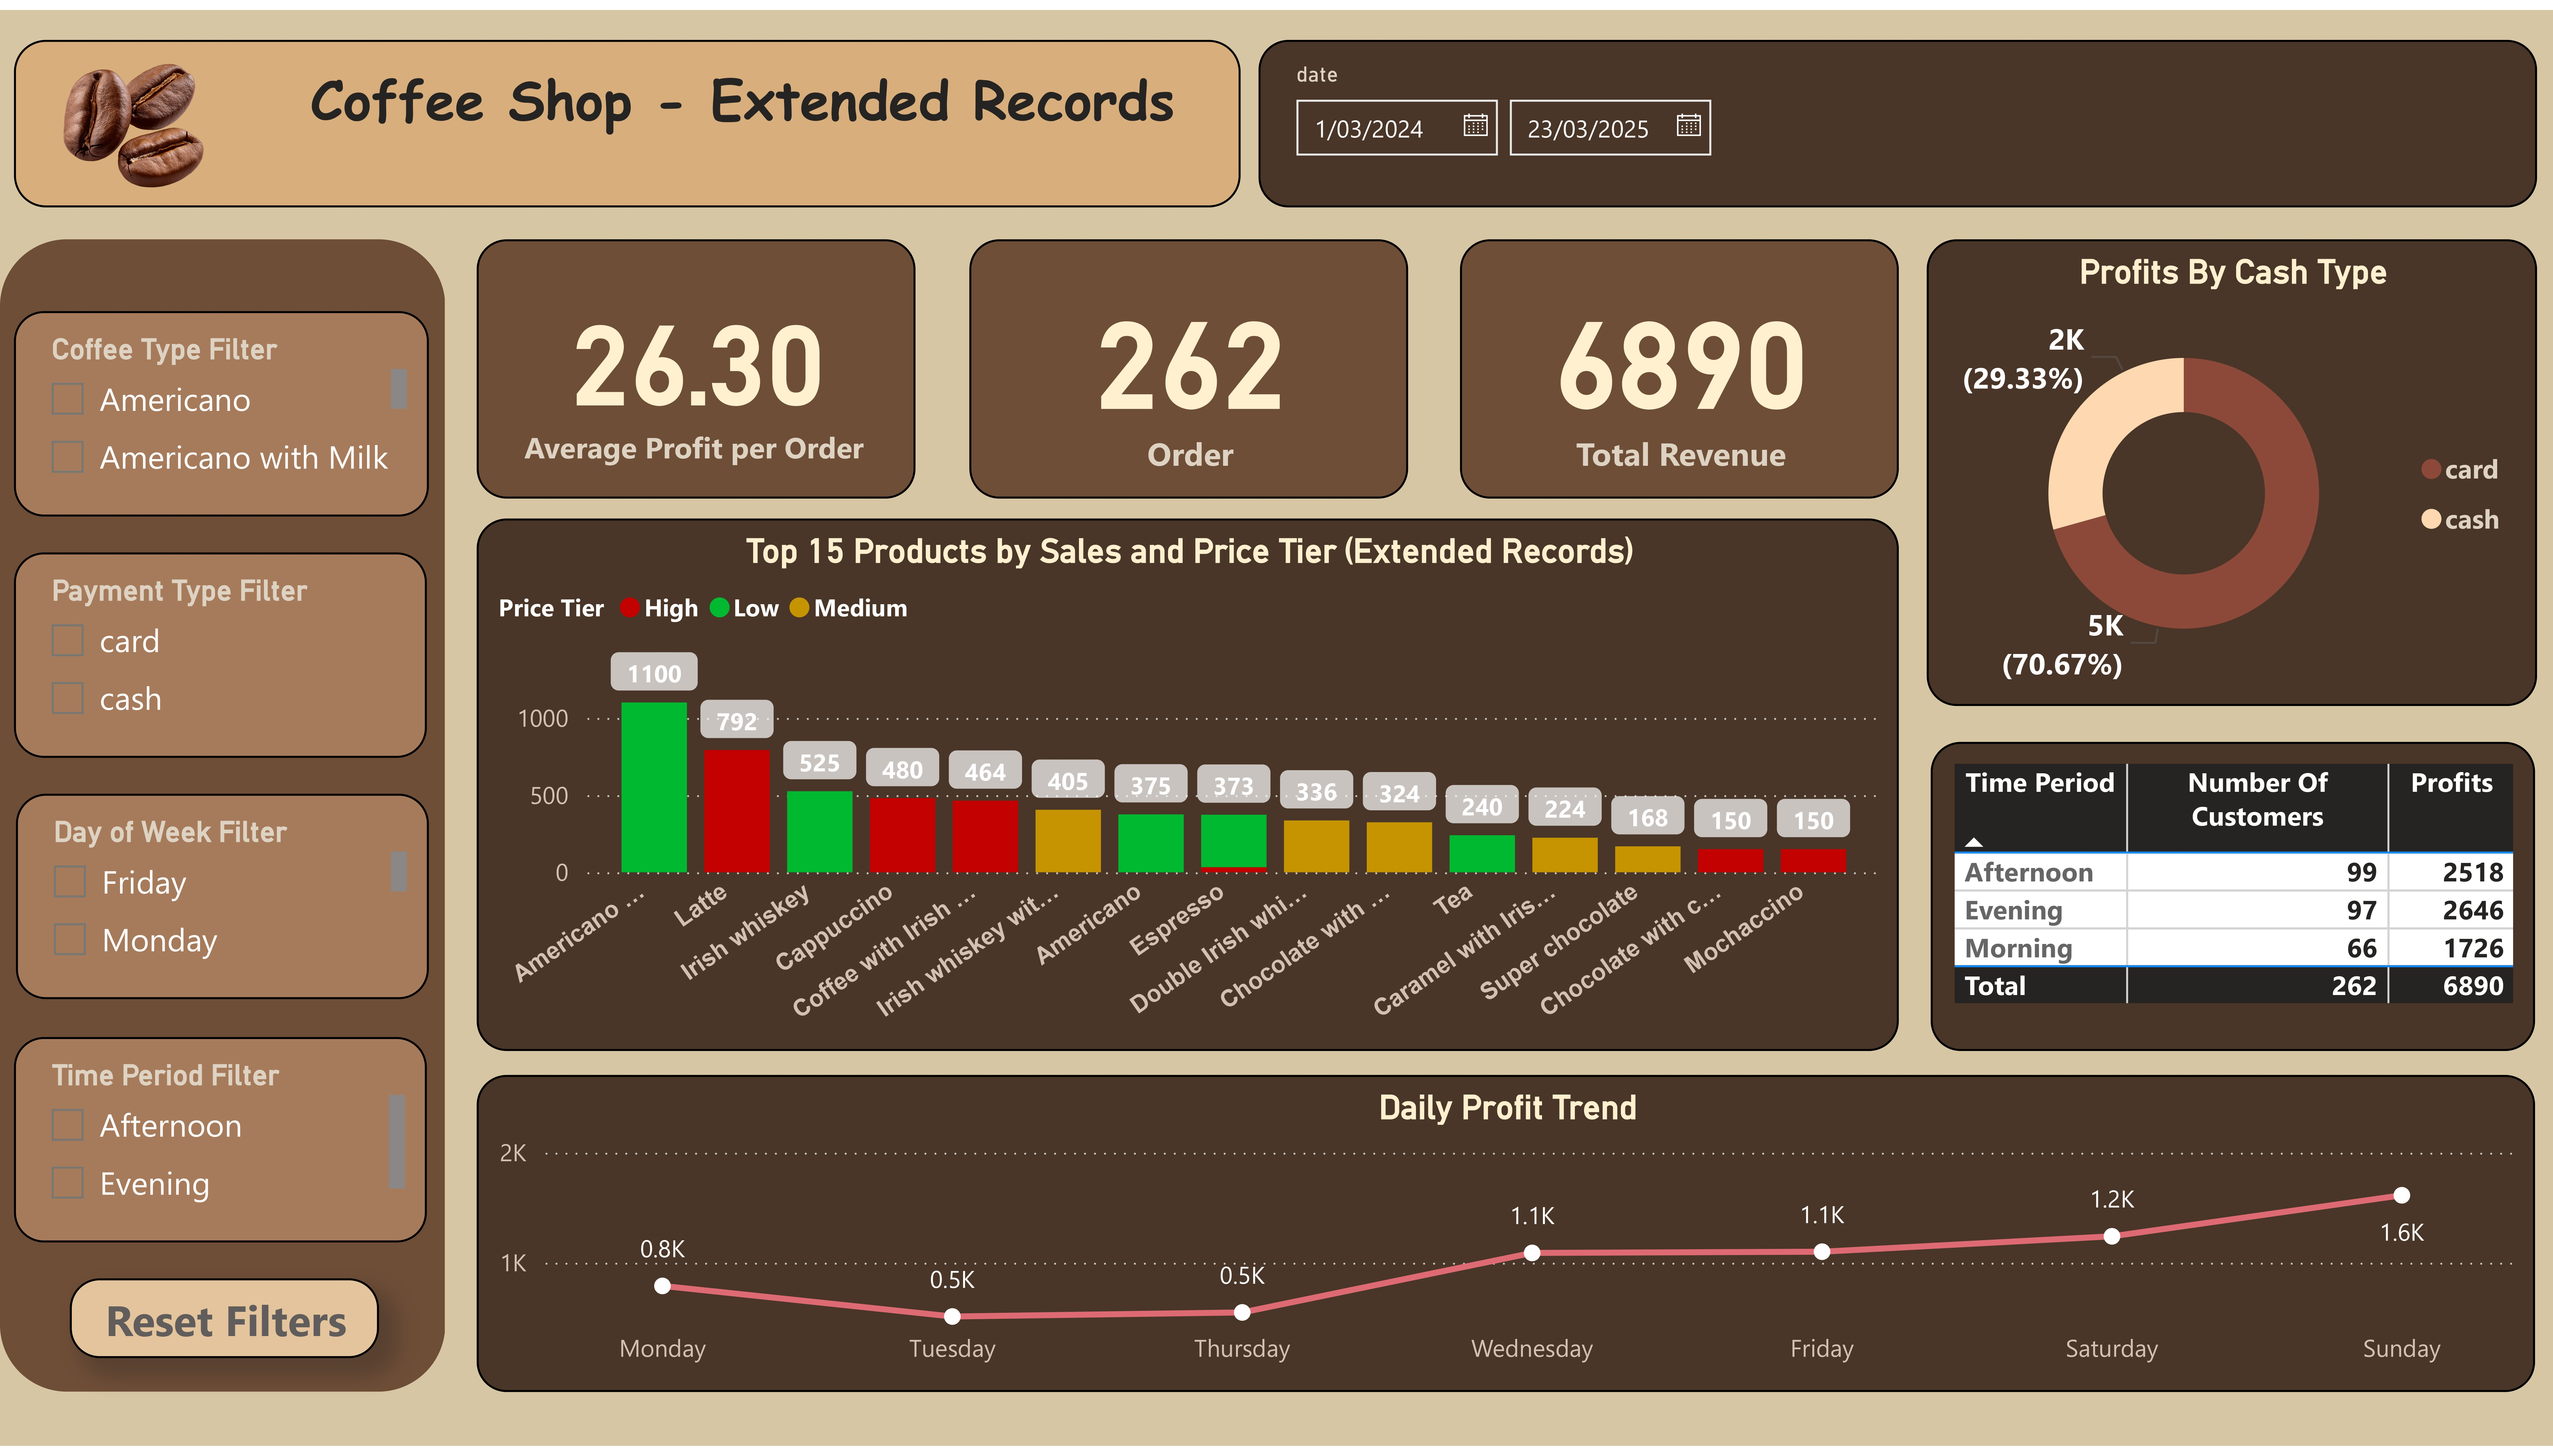

What the dashboard file says about the page in this screenshot:
{"tool":"powerbi","page":{"name":"Coffee Shop - Extended Records","canvas":[1280,720],"ordinal":3},"visuals":[{"type":"shape","box":[0,115.1,223.2,577.8],"z":0},{"type":"tableEx","title":"Most Crowed Time","fields":{"Values":["Coffee_Second_Branch.time_period","CountNonNull(Coffee_Second_Branch.cash_type)","Sum(Coffee_Second_Branch.money)"]},"box":[968.4,367.4,303.4,154.6],"z":1000},{"type":"card","fields":{"Values":["Sum(Coffee_Second_Branch.money)"]},"box":[732.4,115.1,219.7,130.2],"z":2000},{"type":"slicer","fields":{"Values":["Coffee_First_Branch.date"]},"box":[631.3,15.1,640.6,83.7],"z":3000},{"type":"slicer","fields":{"Values":["Coffee_First_Branch.coffee_name"]},"box":[6.7,150.7,207.6,103],"z":4000},{"type":"slicer","fields":{"Values":["Coffee_First_Branch.day_of_week"]},"box":[8.1,393,206.9,103],"z":5000},{"type":"slicer","fields":{"Values":["Coffee_First_Branch.cash_type"]},"box":[7,272,206.9,103],"z":6000},{"type":"slicer","fields":{"Values":["Coffee_First_Branch.time_period"]},"box":[7,515,206.9,103],"z":7000},{"type":"card","fields":{"Values":["CountNonNull(Coffee_Second_Branch.cash_type)"]},"box":[486,115.1,219.7,130.2],"z":8000},{"type":"card","fields":{"Values":["Avg(Coffee_Second_Branch.money)"]},"box":[239.5,115.1,220,130.2],"z":9000},{"type":"textbox","box":[7,15.1,615,83.7],"z":10000},{"type":"image","box":[18.6,7,93,98.8],"z":11000},{"type":"actionButton","box":[34.8,636.4,154.6,39.6],"z":12000},{"type":"lineChart","title":"Daily Profit Trend ","fields":{"Category":["Coffee_Second_Branch.day_of_week"],"Y":["Sum(Coffee_Second_Branch.money)"]},"box":[239.5,533.6,1032.4,159.3],"z":13000},{"type":"donutChart","title":"Profits By Cash Type","fields":{"Category":["Coffee_Second_Branch.cash_type"],"Y":["Sum(Coffee_Second_Branch.money)"]},"box":[966.1,115.1,305.8,233.7],"z":14000},{"type":"lineStackedColumnComboChart","title":"Top 15 Products by Sales and Price Tier (Extended Records)","fields":{"Category":["Coffee_Second_Branch.coffee_name"],"Y":["Sum(Coffee_Second_Branch.money)"],"Series":["Coffee_Second_Branch.price_tier"]},"box":[239.5,254.6,712.7,267.4],"z":15000}]}

Visuals, with their boxes in screenshot pixels (x1, y1, x2, y2), scaled from the page's 1280x720 canvas onto the 2553x1456 screenshot:
shape: BBox(0, 233, 445, 1401)
"Most Crowed Time" tableEx: BBox(1931, 743, 2537, 1056)
card - Sum(Coffee_Second_Branch.money): BBox(1461, 233, 1899, 496)
slicer - Coffee_First_Branch.date: BBox(1259, 31, 2537, 200)
slicer - Coffee_First_Branch.coffee_name: BBox(13, 305, 427, 513)
slicer - Coffee_First_Branch.day_of_week: BBox(16, 795, 429, 1003)
slicer - Coffee_First_Branch.cash_type: BBox(14, 550, 427, 758)
slicer - Coffee_First_Branch.time_period: BBox(14, 1042, 427, 1250)
card - CountNonNull(Coffee_Second_Branch.cash_type): BBox(970, 233, 1408, 496)
card - Avg(Coffee_Second_Branch.money): BBox(478, 233, 917, 496)
textbox: BBox(14, 31, 1241, 200)
image: BBox(37, 14, 223, 214)
actionButton: BBox(69, 1287, 378, 1367)
"Daily Profit Trend " lineChart: BBox(478, 1079, 2537, 1401)
"Profits By Cash Type" donutChart: BBox(1927, 233, 2537, 705)
"Top 15 Products by Sales and Price Tier (Extended Records)" lineStackedColumnComboChart: BBox(478, 515, 1899, 1056)
